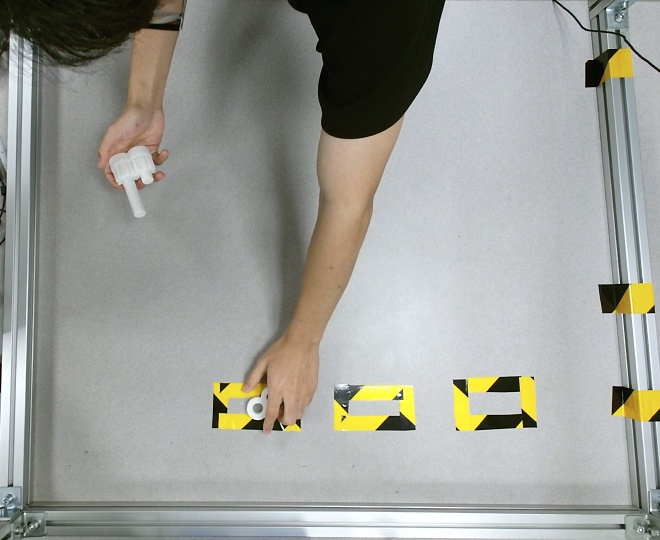stage_3: (108, 144, 156, 219)
